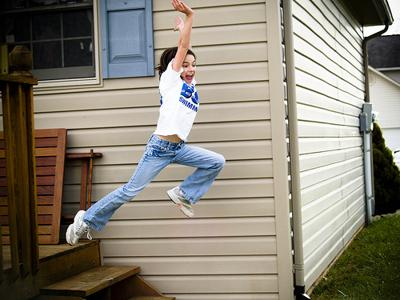person: (65, 3, 226, 247)
